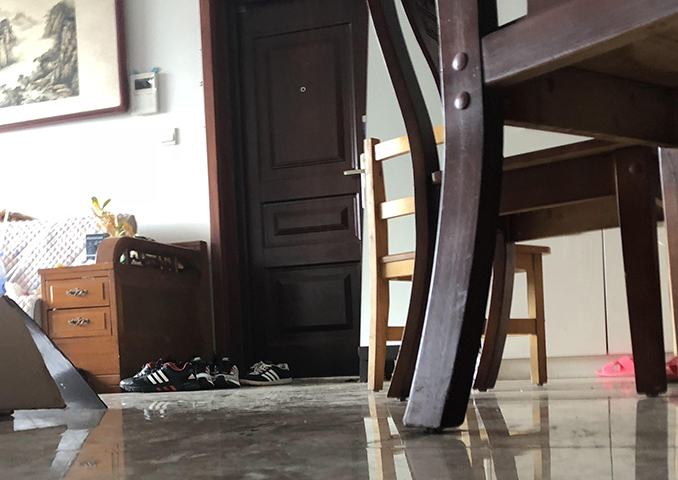cabinet: (36, 258, 198, 394)
stool: (364, 1, 670, 401), (398, 1, 678, 431), (363, 123, 554, 395)
